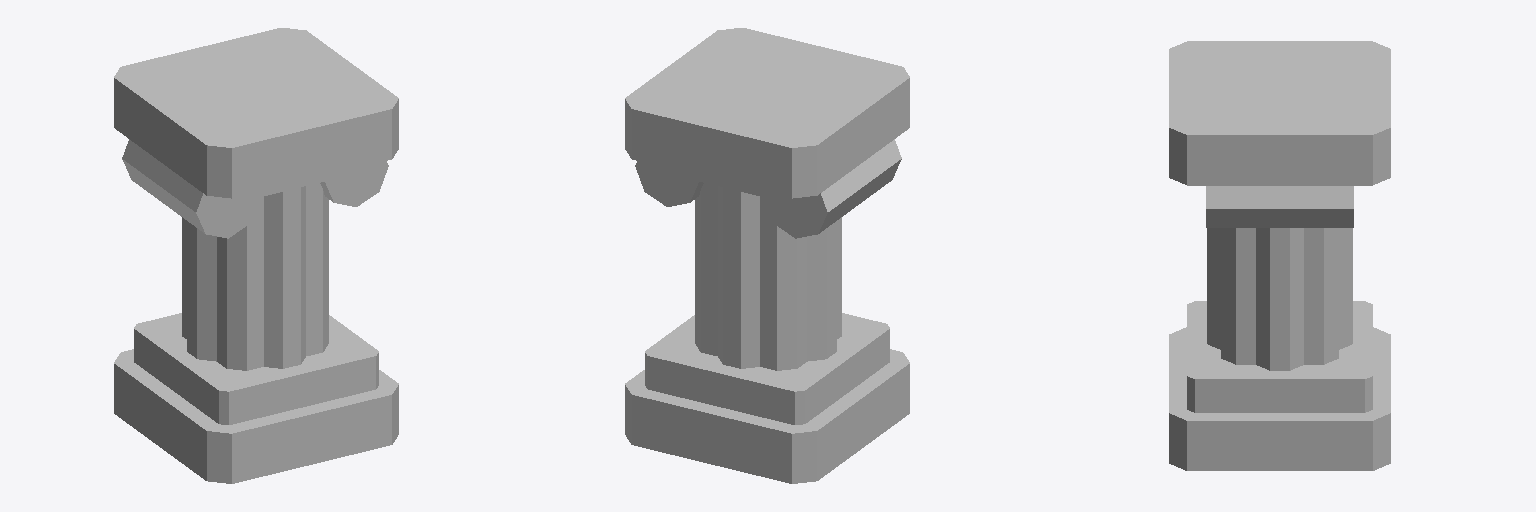
Rendered from column.002.obj.
3 renders of one model, left to right at view 1: azimuth 30°, elevation 25°; view 2: azimuth 150°, elevation 25°; view 3: azimuth 270°, elevation 25°, orthographic.
Parts seen in each view (by area): view 1: column.001; view 2: column.001; view 3: column.001.
Boxes of the visible parts, x1,y1,x2,y2 form: column.001: [114, 28, 398, 483]; column.001: [625, 28, 909, 483]; column.001: [1169, 41, 1390, 470].
Size of the model in its own units: 0.6031 by 1 by 0.6.